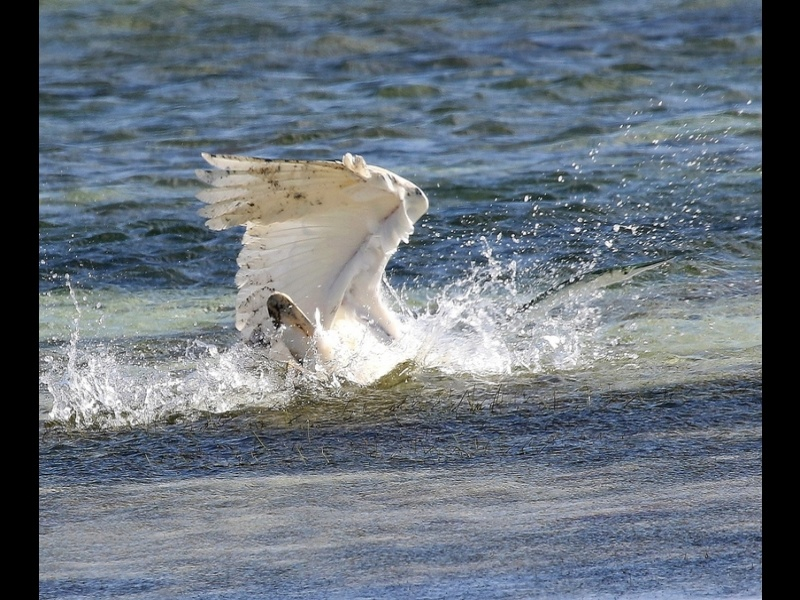heron: (193, 149, 445, 384)
